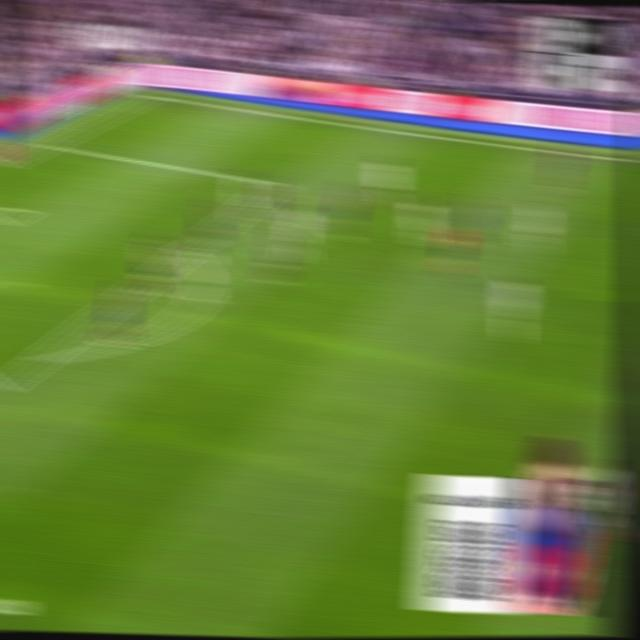bigarea_top_inner: (266, 174, 288, 191)
bigarea_top_outter: (35, 134, 59, 151)
bottom_arc_area_intersection: (27, 344, 55, 372)
corner: (135, 88, 158, 100)
smallarea_top_inner: (10, 200, 35, 219)
top_arc_area_intersection: (174, 241, 198, 260)
